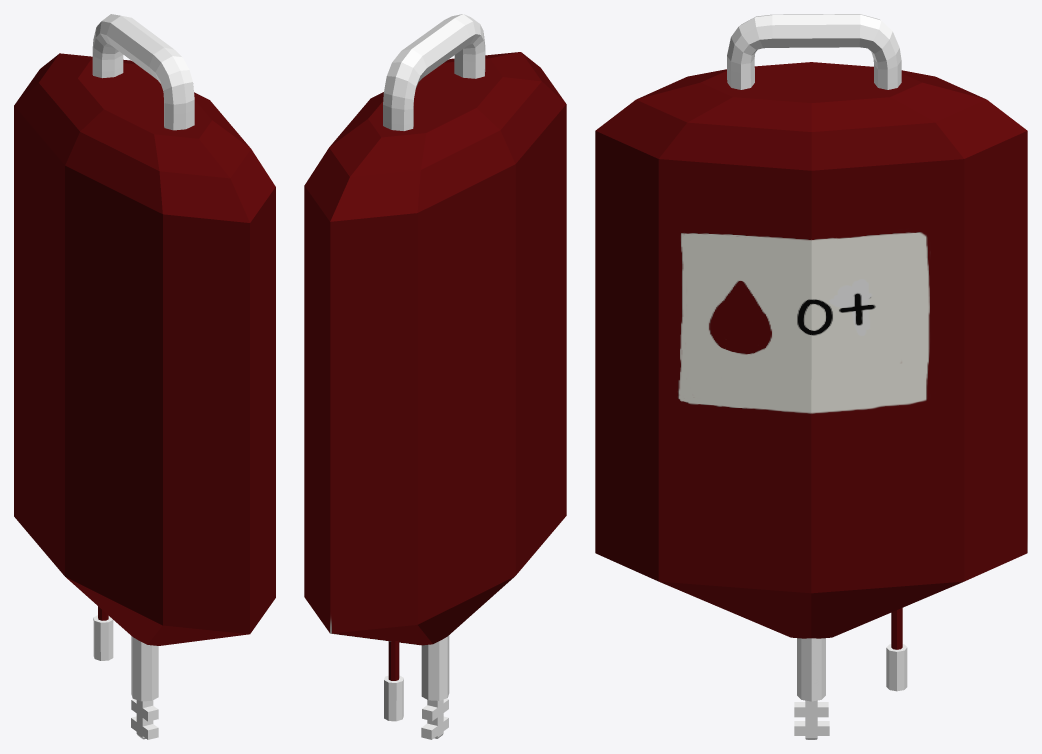
The model's file is Sangre.fbx.
3 views of the same model, side by side, from view 1: azimuth 30°, elevation 25°; view 2: azimuth 150°, elevation 25°; view 3: azimuth 270°, elevation 25° (orthographic). The views are drawn at different scales.
Parts seen in each view (by area): view 1: Cylinder, Cylinder.001, Cube, Cylinder.002; view 2: Cylinder, Cylinder.001, Cube, Cylinder.002; view 3: Cylinder, Cylinder.001, Cube, Cylinder.002.
Part boxes in pixels (x1=…): Cylinder: x1=14, y1=53, x2=275, y2=645; Cylinder.001: x1=92, y1=14, x2=194, y2=130; Cube: x1=131, y1=636, x2=158, y2=739; Cylinder.002: x1=93, y1=606, x2=113, y2=660; Cylinder: x1=304, y1=52, x2=566, y2=645; Cylinder.001: x1=383, y1=14, x2=485, y2=130; Cube: x1=421, y1=635, x2=449, y2=739; Cylinder.002: x1=384, y1=641, x2=403, y2=721; Cylinder: x1=595, y1=62, x2=1027, y2=638; Cylinder.001: x1=727, y1=14, x2=901, y2=89; Cube: x1=794, y1=638, x2=829, y2=739; Cylinder.002: x1=886, y1=608, x2=907, y2=691.
Size of the model in its own units: 87.71 by 370 by 200.
